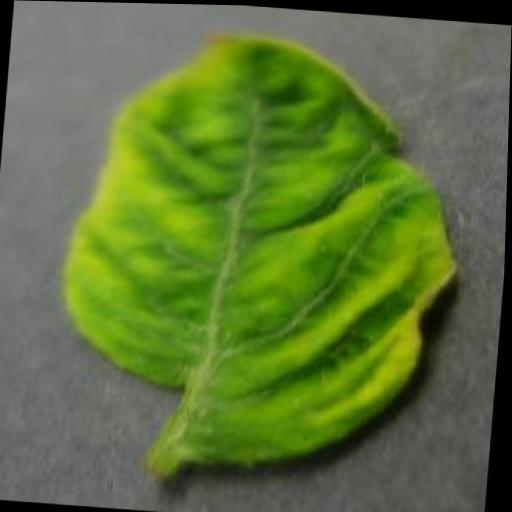Yellow Leaf Curl Virus: (50, 22, 475, 479)
